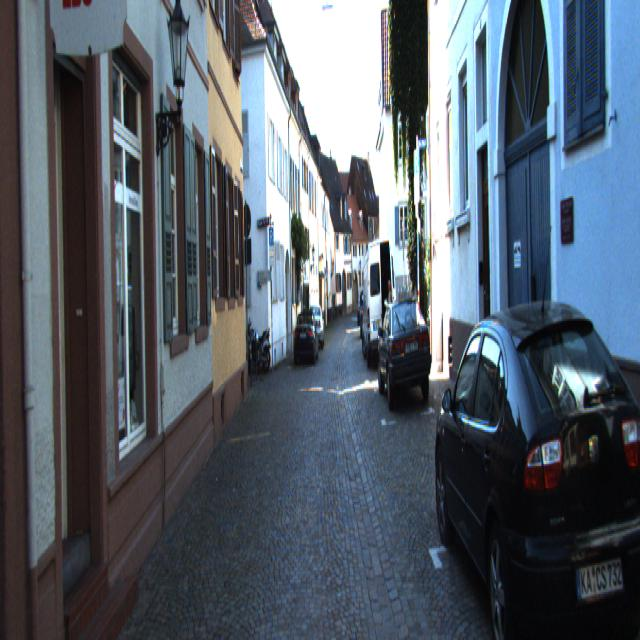Car: (432, 296, 639, 638), (376, 294, 432, 413), (362, 230, 396, 364), (242, 315, 272, 374), (294, 310, 318, 366), (306, 304, 325, 350)
